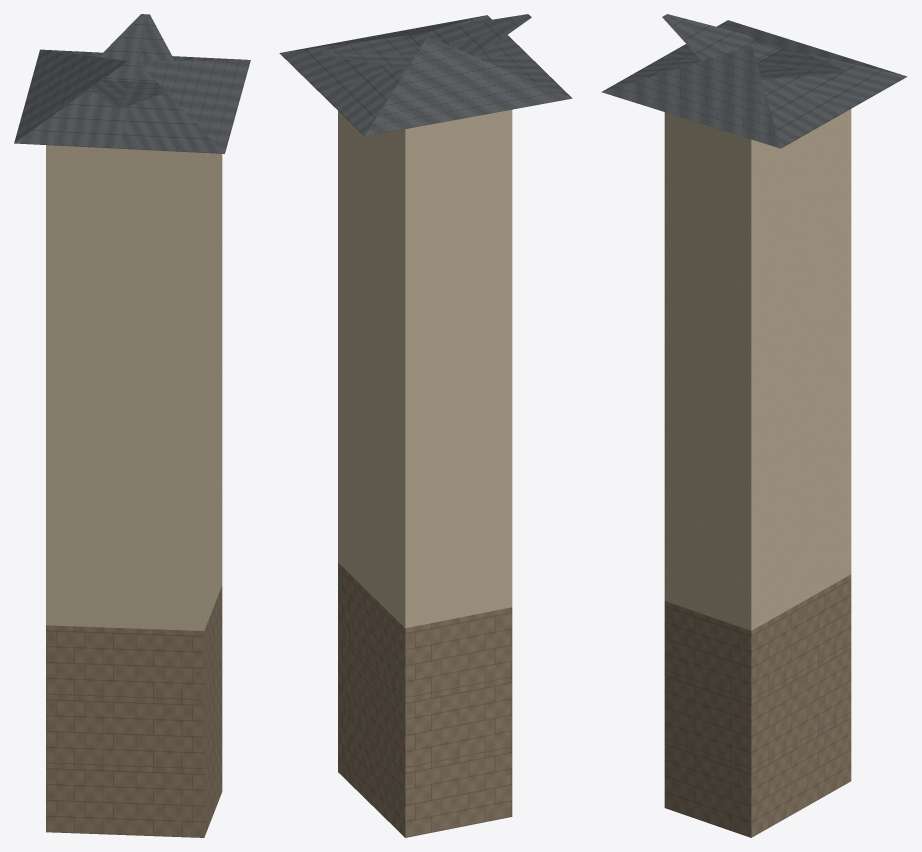
The model's file is bld_c-1_-1_543.gltf.
The picture shows the model from 3 angles, left to right: view 1: azimuth 30°, elevation 25°; view 2: azimuth 150°, elevation 25°; view 3: azimuth 270°, elevation 25°; orthographic projection.
Parts seen in each view (by area): view 1: bld_c-1_-1_543; view 2: bld_c-1_-1_543; view 3: bld_c-1_-1_543.
Boxes of the visible parts, bbox=[...] form: bld_c-1_-1_543: bbox=[14, 14, 250, 837]; bld_c-1_-1_543: bbox=[279, 14, 572, 837]; bld_c-1_-1_543: bbox=[601, 14, 907, 837].
Bounding box in the file's own units: 6.79 × 18.5 × 6.84.
3 materials, 3 textured.
